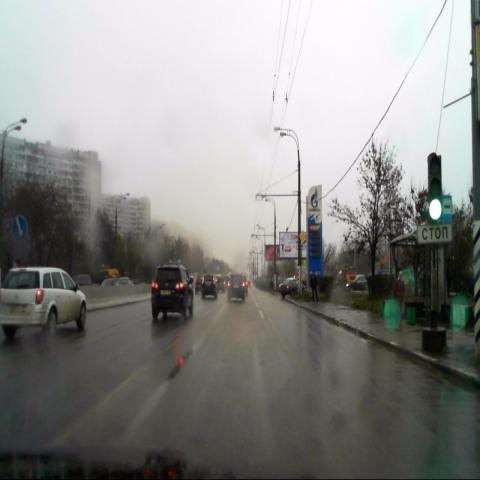6_16: (417, 225, 452, 244)
